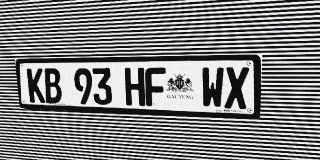3: (92, 68, 112, 105)
9: (74, 68, 93, 104)
B: (43, 68, 62, 103)
F: (145, 67, 166, 107)
H: (124, 68, 145, 106)
K: (26, 68, 45, 103)
W: (201, 67, 224, 108)
X: (224, 67, 249, 109)
